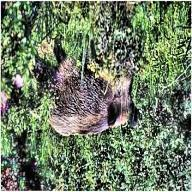boar: (38, 34, 137, 143)
